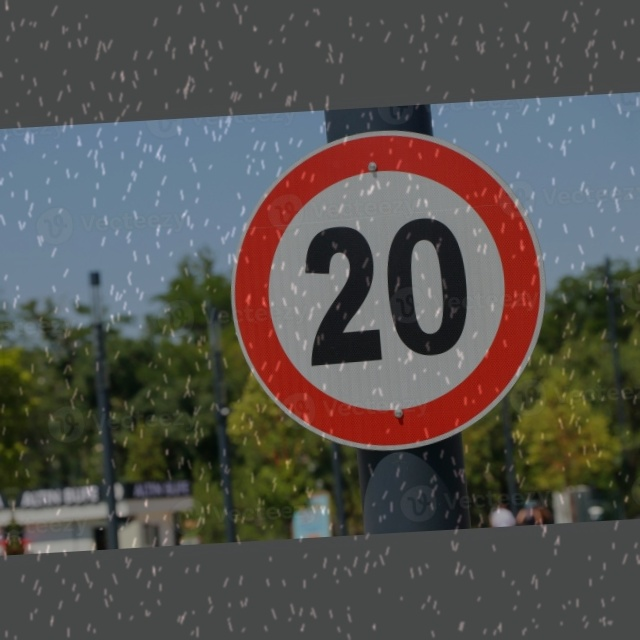Speed_Limit_20: (227, 118, 546, 445)
